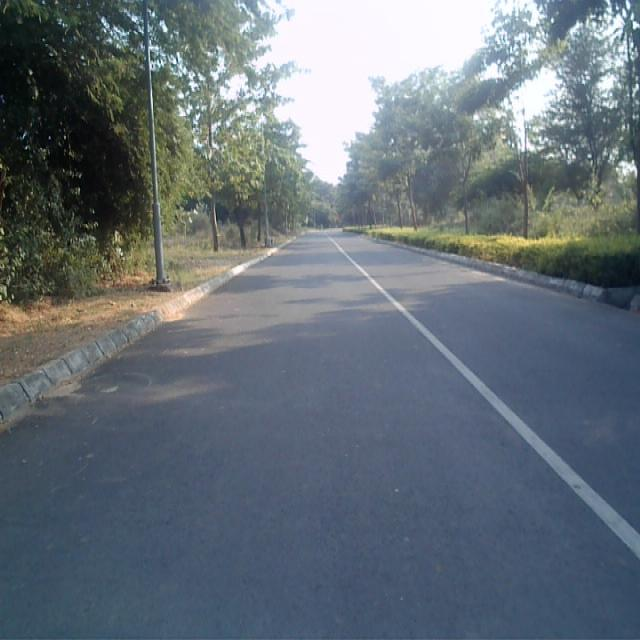lane: (0, 236, 640, 640)
